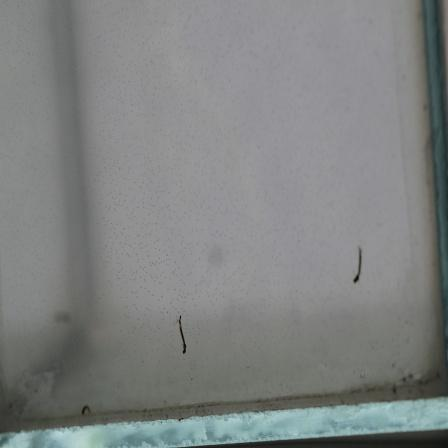Jentik-Nyamuk: (172, 309, 192, 355), (349, 237, 365, 291)
